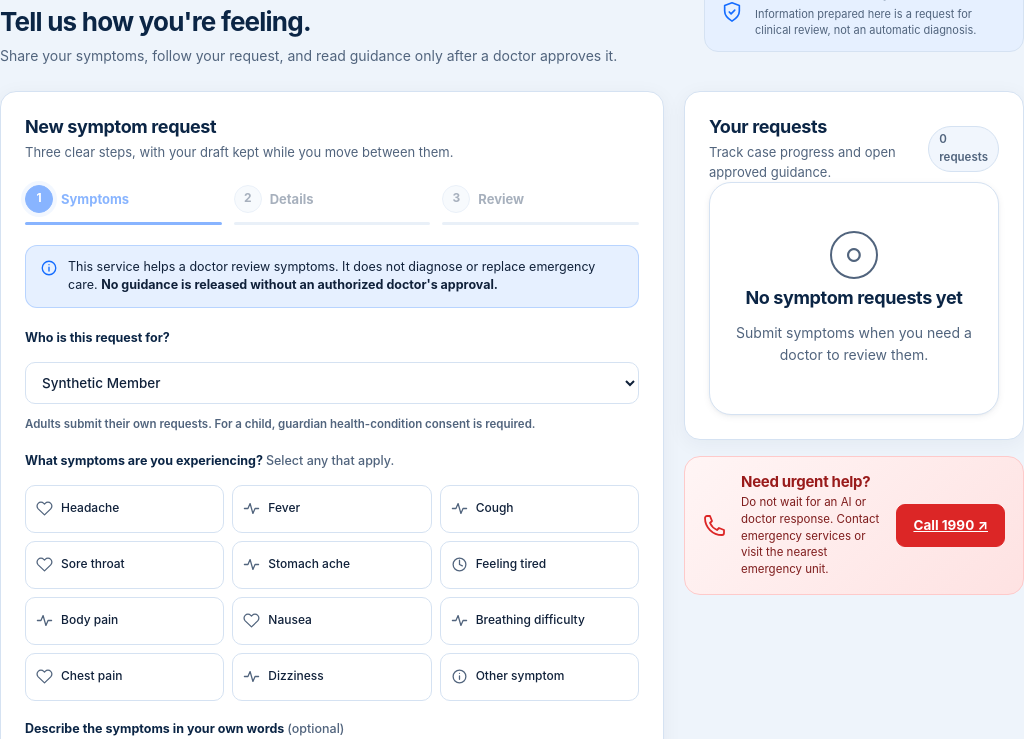
Triage three-step journey › accepts same-day symptoms with duration zero
Click the button "Headache". click: [125, 509]
box: x1=25 y1=485 x2=224 y2=533
(page scrolled)
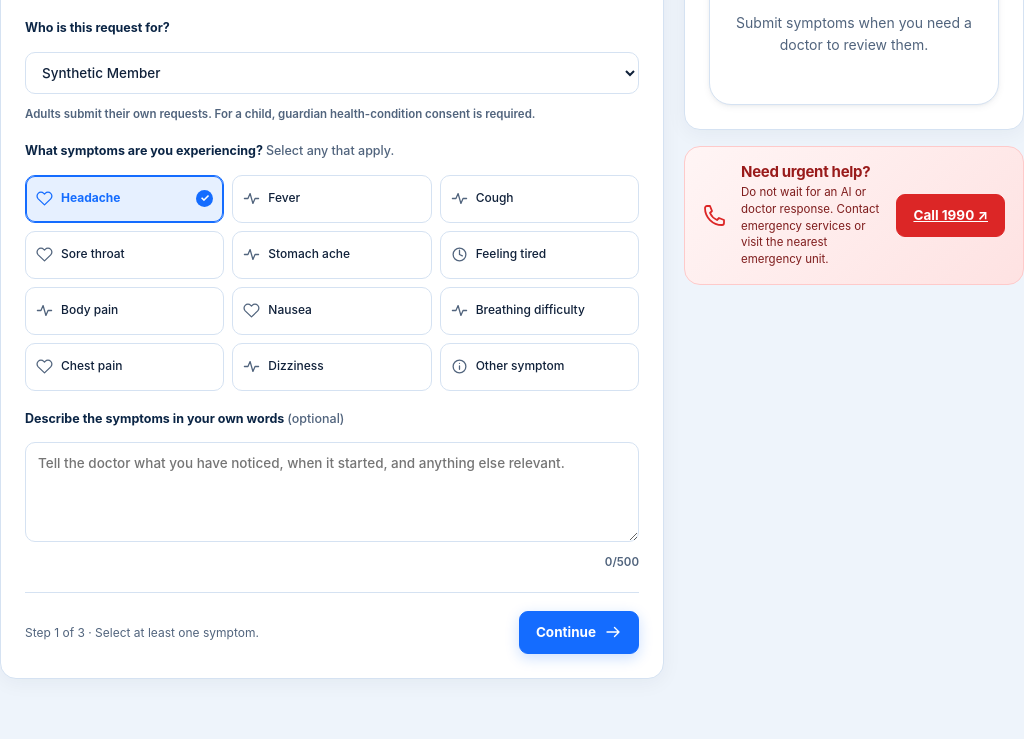
Click the button "Continue". click: [579, 632]
box: x1=519 y1=611 x2=639 y2=654
(page scrolled)
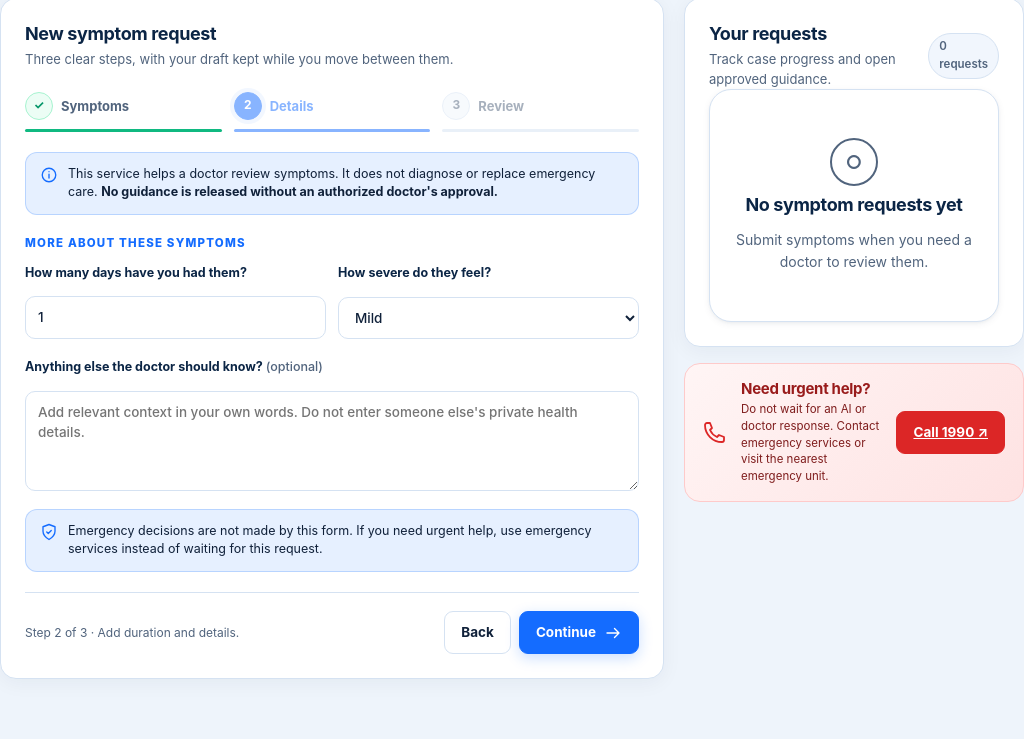
Replace the text in the number field labelled "How many days have you had them?" with "0". click: [176, 318]
box: x1=25 y1=296 x2=326 y2=339
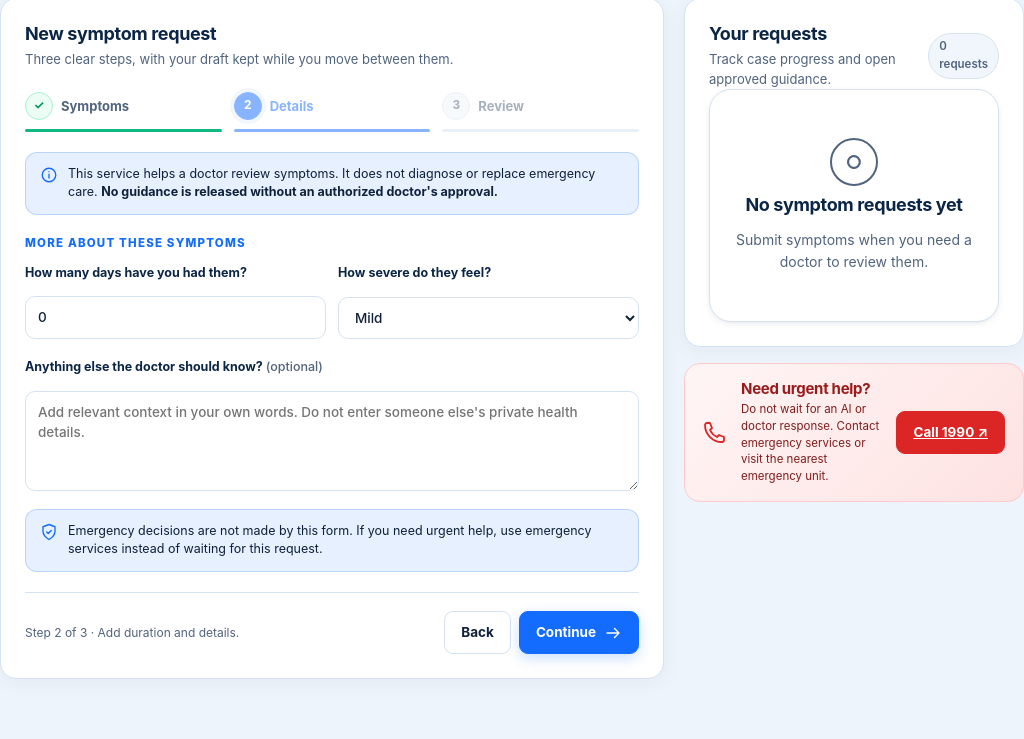
Click the button "Continue". click: [579, 633]
box: x1=519 y1=611 x2=639 y2=654
(page scrolled)
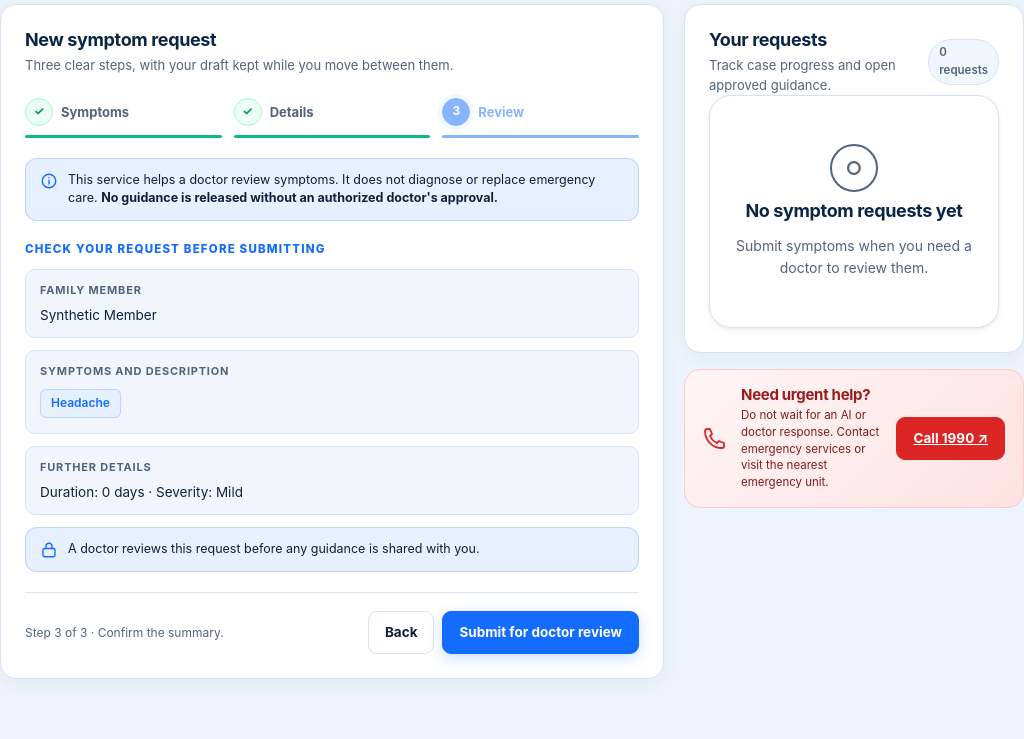
Result: the button "Submit for doctor review" is shown at x1=442 y1=611 x2=639 y2=654
Result: the element named "Review symptom request" shows "0 days" at x1=25 y1=241 x2=639 y2=572
